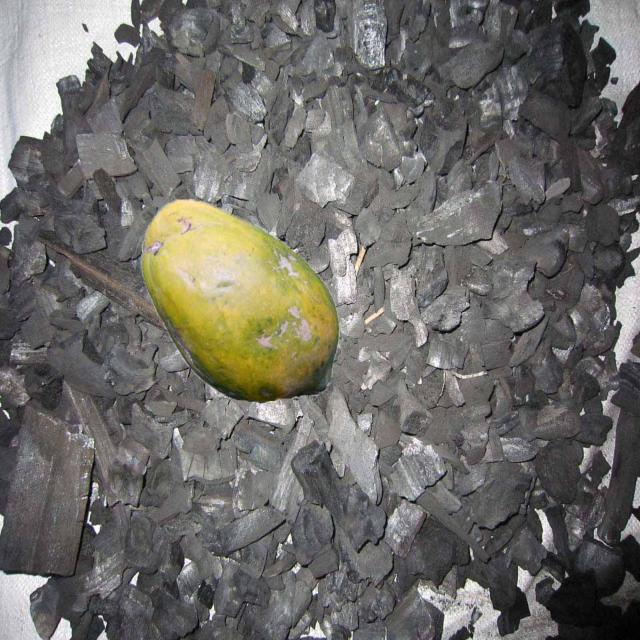Pepaya rippen: (136, 200, 337, 407)
